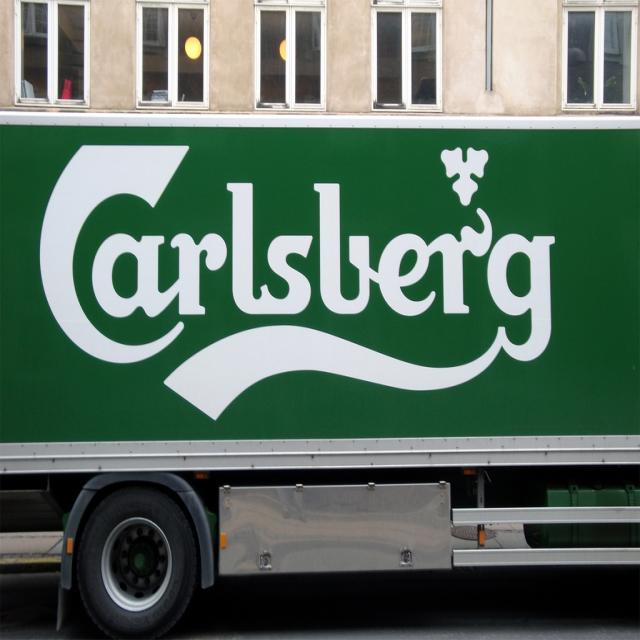carlsberg: (34, 132, 579, 434)
